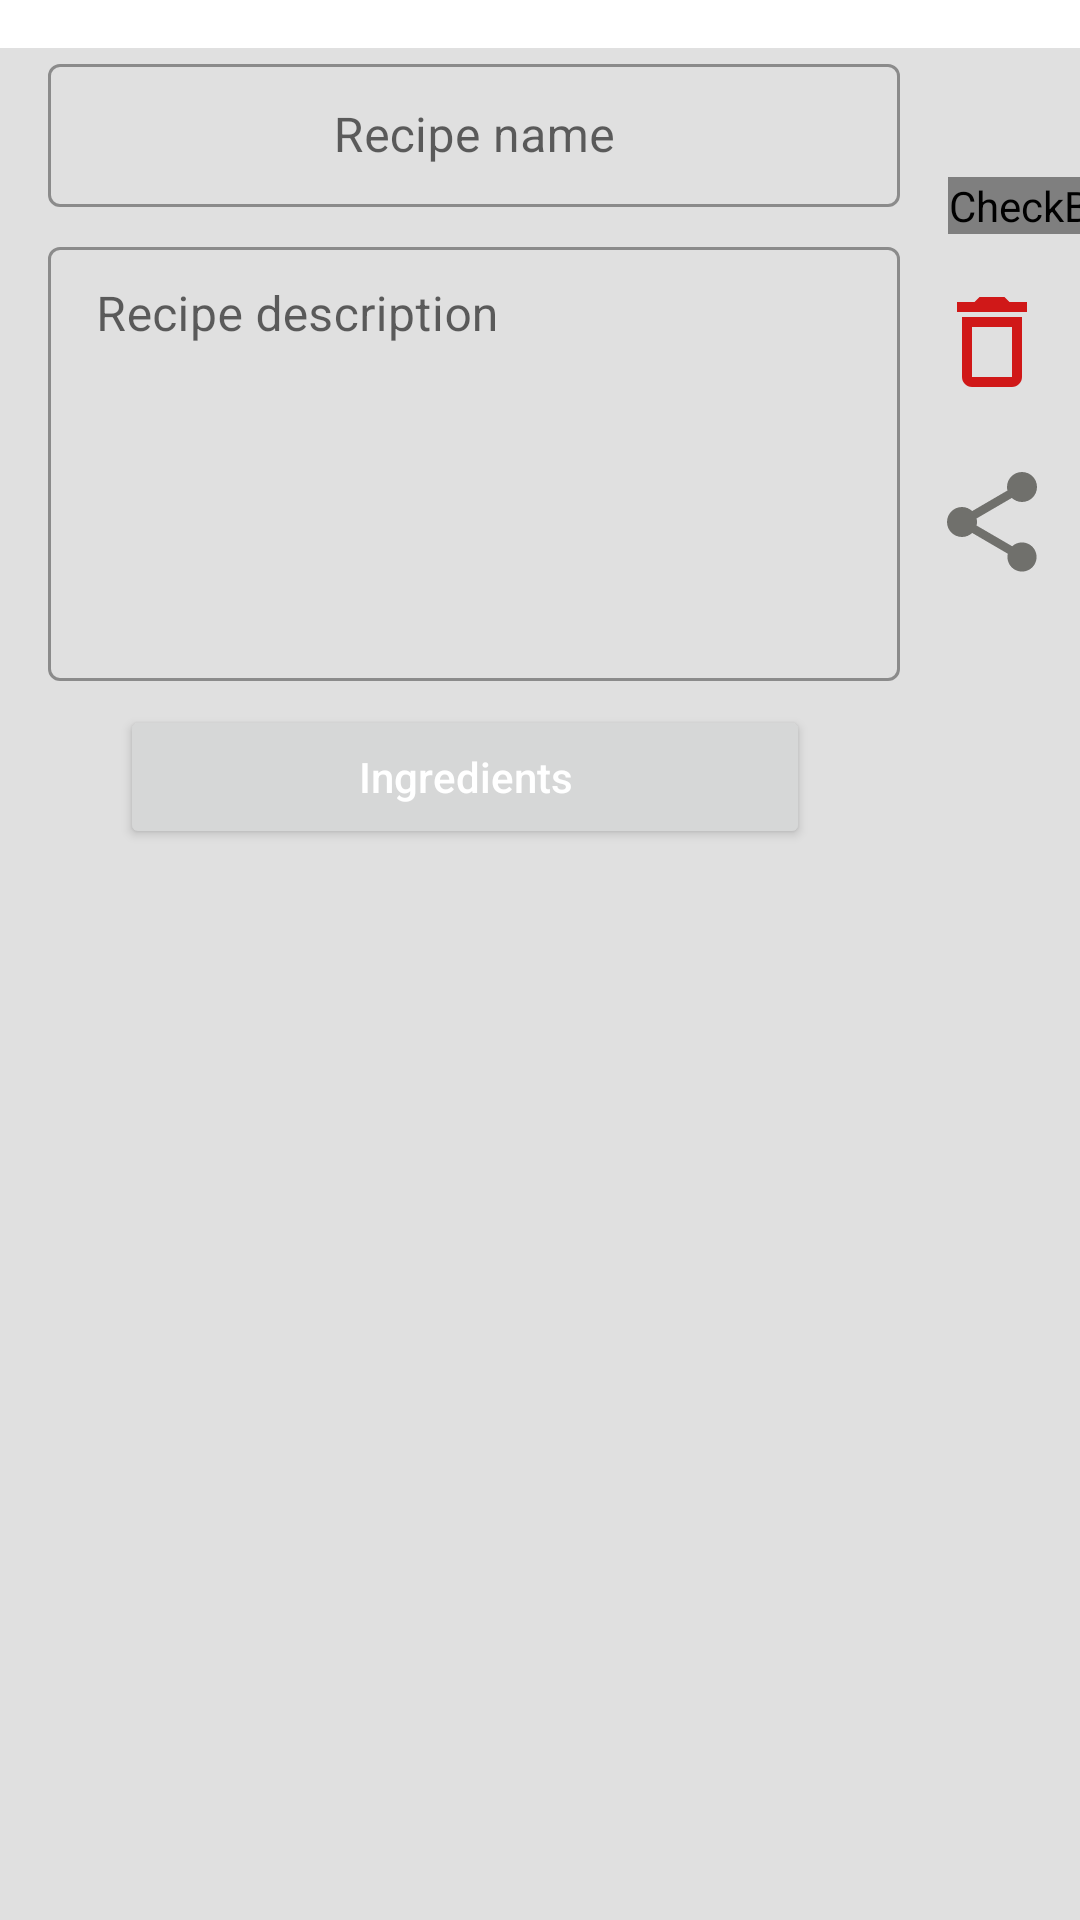

Point at icon controls on the screen. Image size 1080px×1920px, points as point (x, y).
delete: point (992, 342)
share: point (992, 522)
